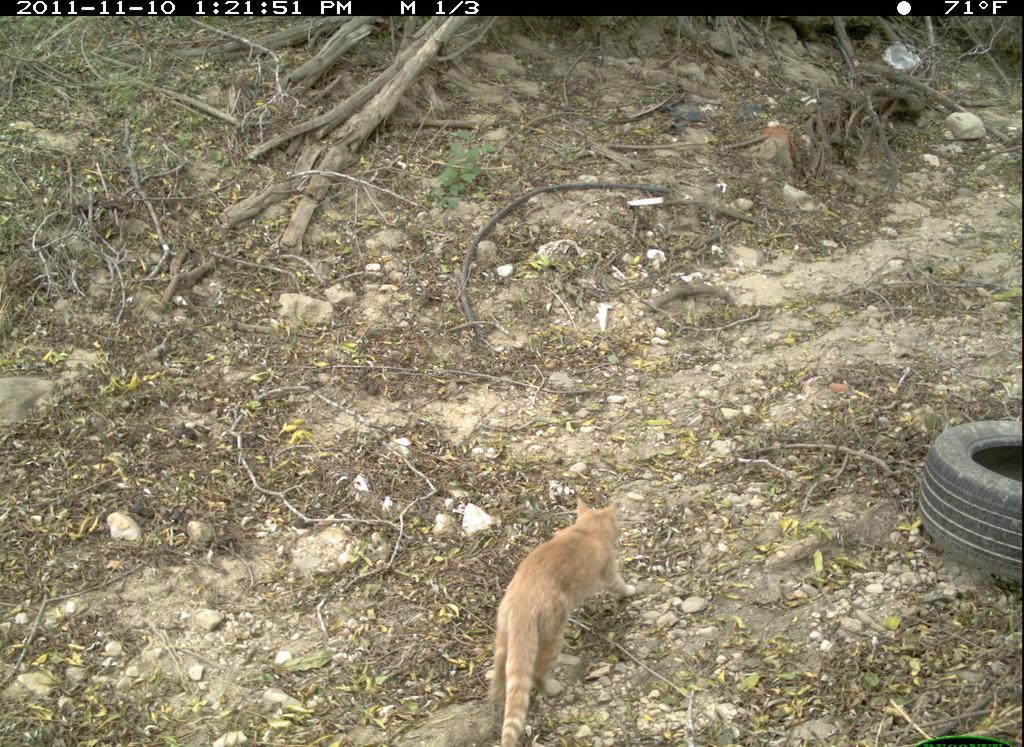cat: (466, 492, 637, 739)
